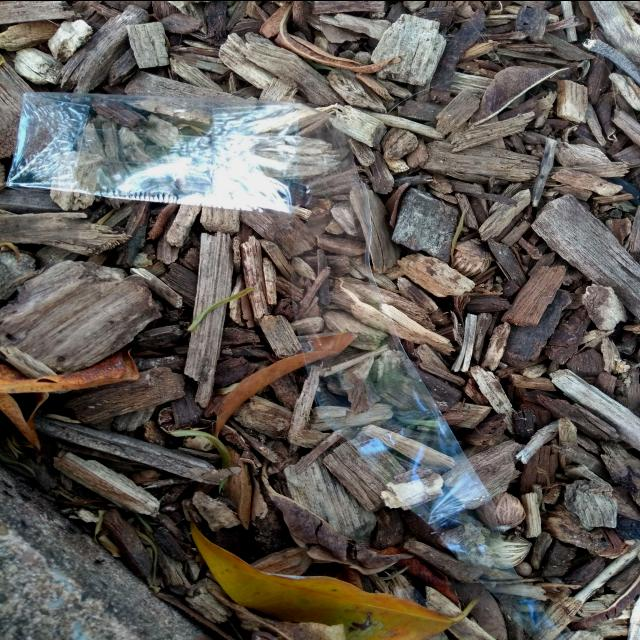Plastic film: (7, 91, 582, 638)
